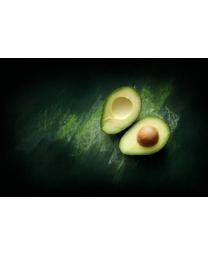avocado: (117, 115, 172, 157), (100, 85, 143, 137)
